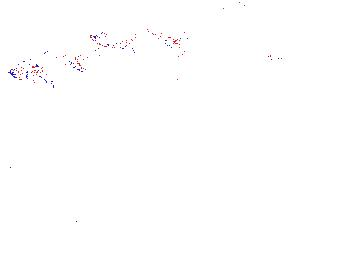red belly glassfish: (265, 48, 293, 62), (219, 1, 247, 10)
redtail glassfish: (87, 25, 185, 58), (8, 44, 86, 80)
siberian prawn: (32, 223, 95, 255)
